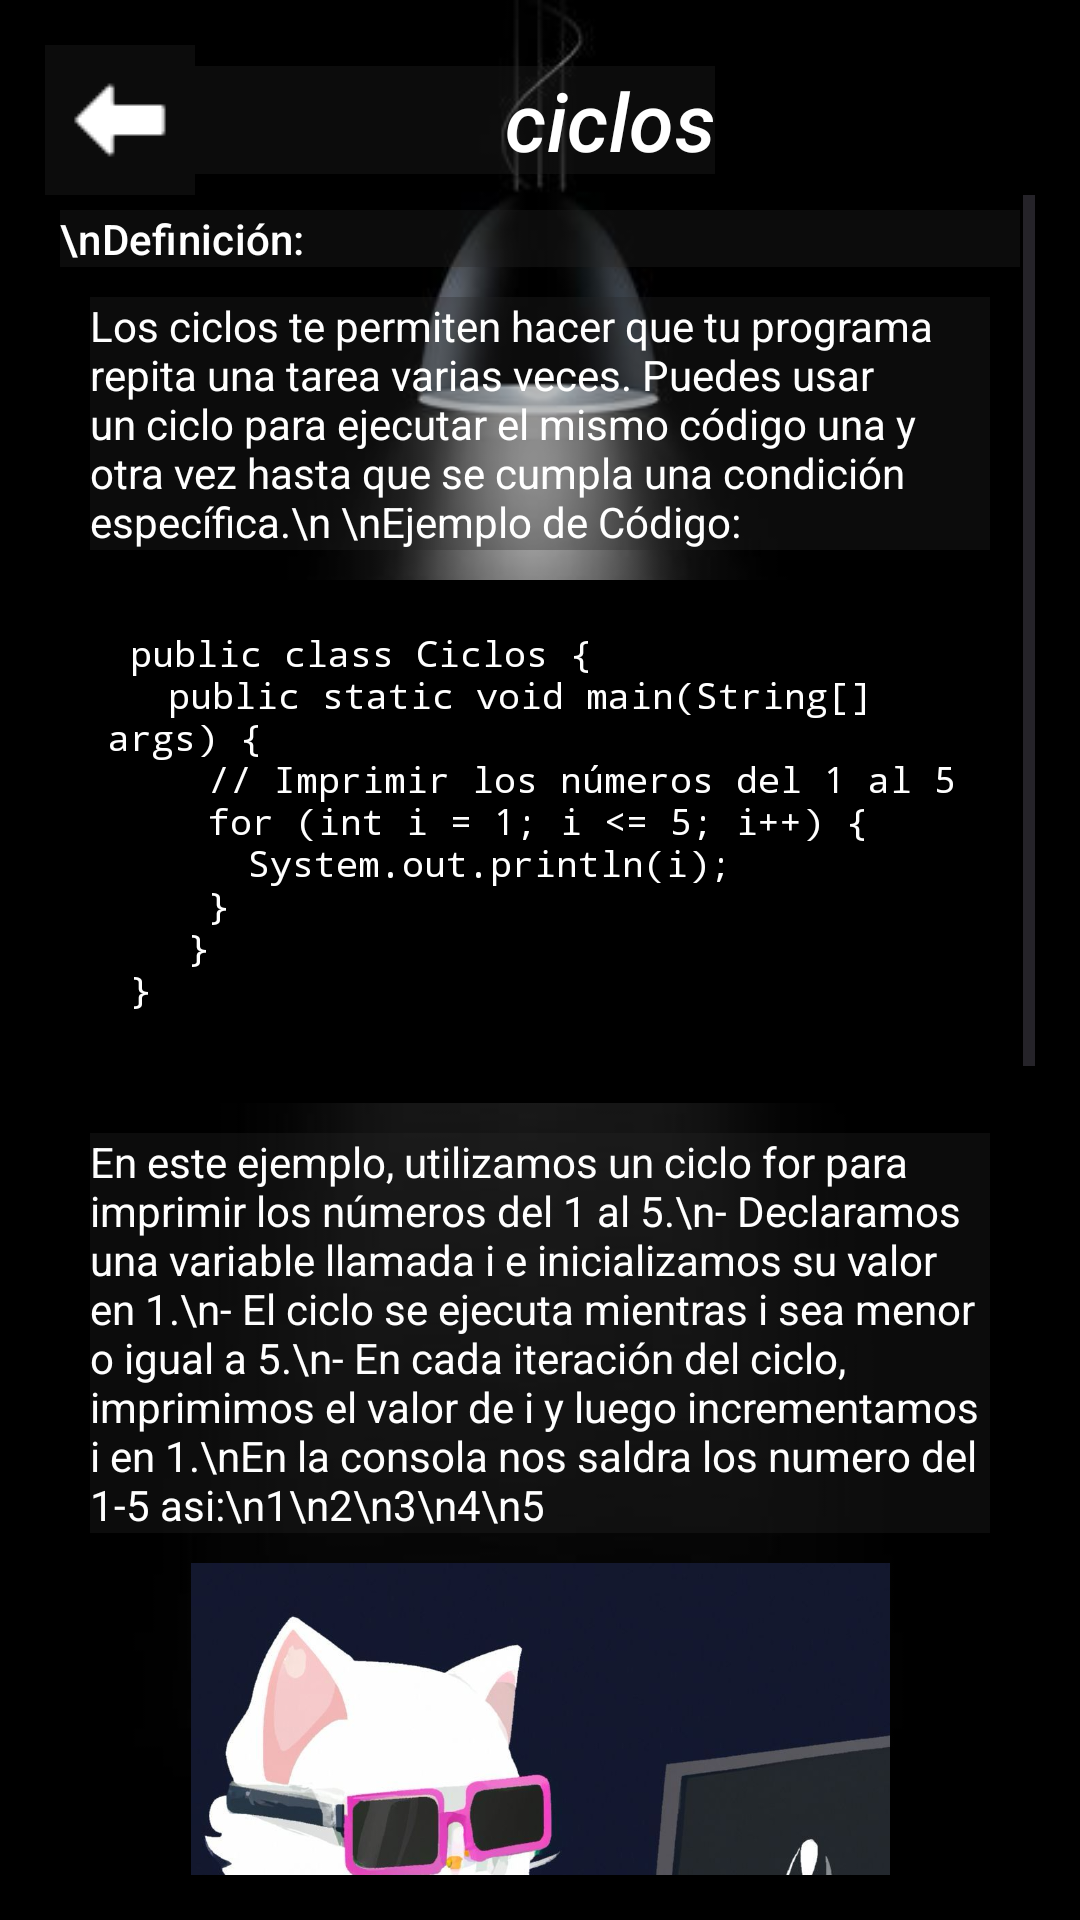

Where icons sit on this 1080x1920 app screen, as bbox=[x1, y1, x2, y2]:
buttonback: bbox=[74, 83, 166, 157]
